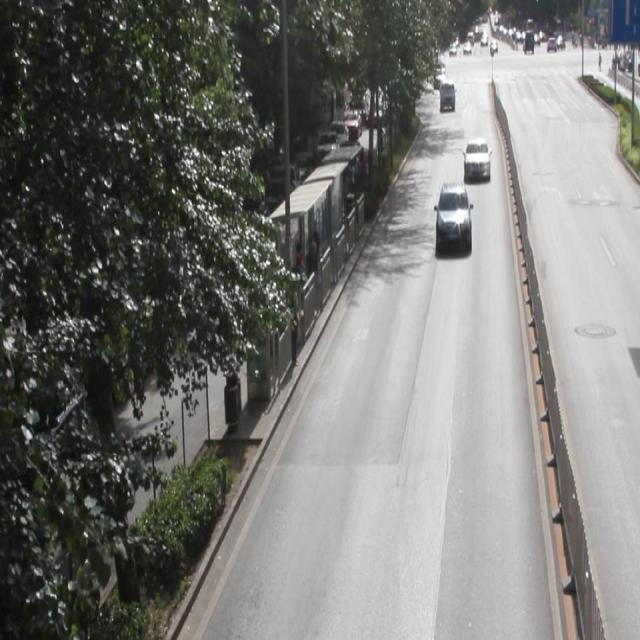car: (435, 182, 470, 246), (462, 137, 489, 181)
